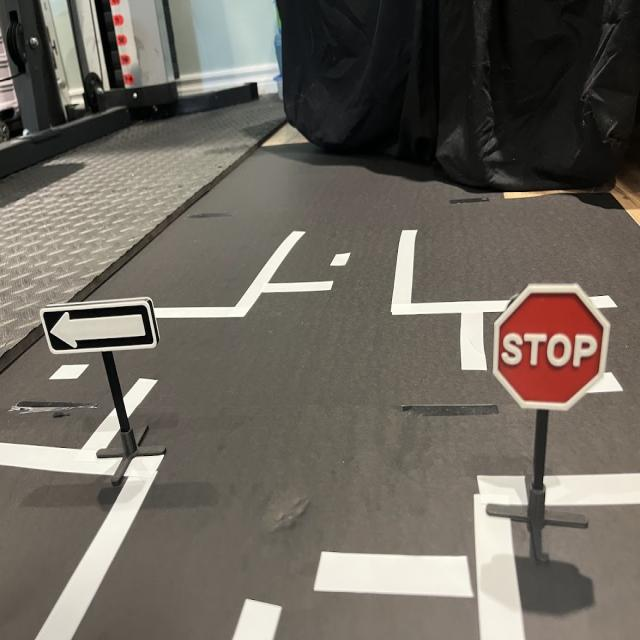sign_oneway_left: (42, 295, 165, 357)
sign_stop: (495, 285, 614, 409)
